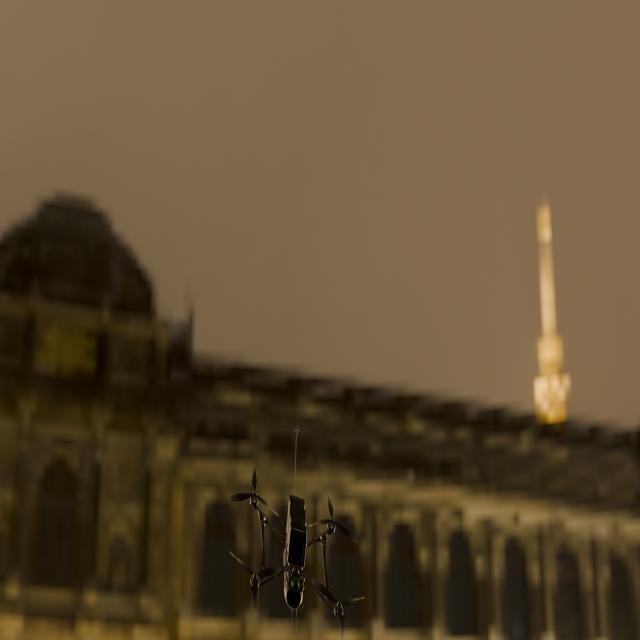drone: (229, 426, 364, 639)
